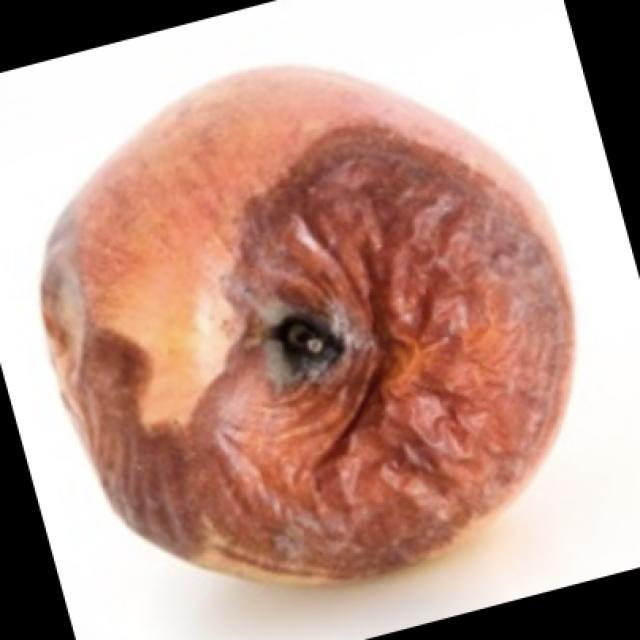Rotten: (47, 70, 580, 573)
